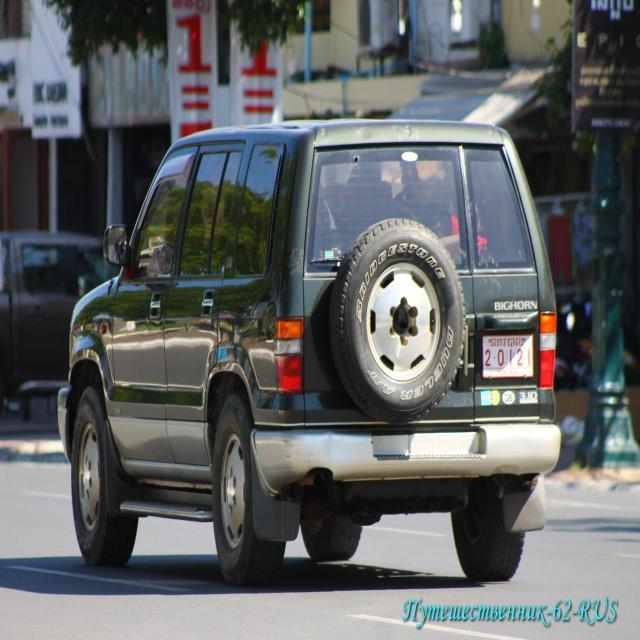Police: (490, 337, 524, 348)
